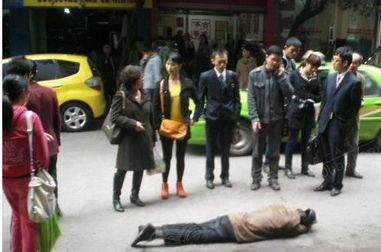10+: (3, 29, 365, 252)
down: (121, 205, 320, 250)
